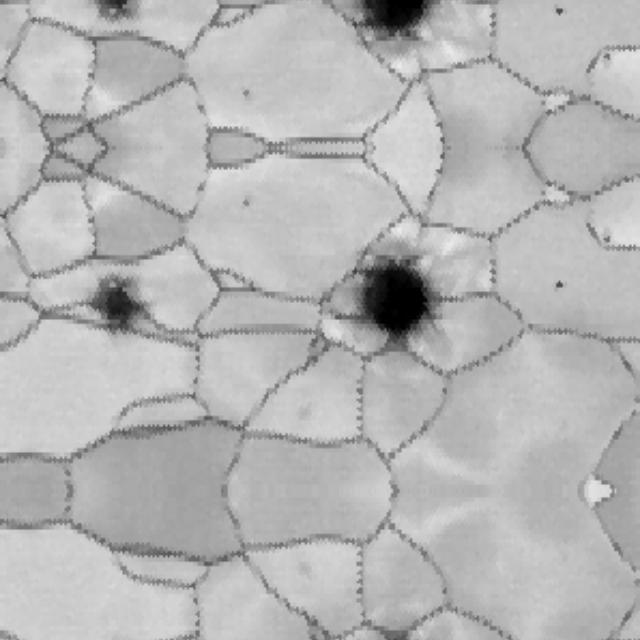good_void: (355, 254, 446, 351), (81, 273, 159, 335), (355, 0, 443, 43), (81, 0, 140, 23), (545, 276, 564, 292), (545, 5, 564, 21), (241, 86, 257, 101), (241, 196, 257, 210)
